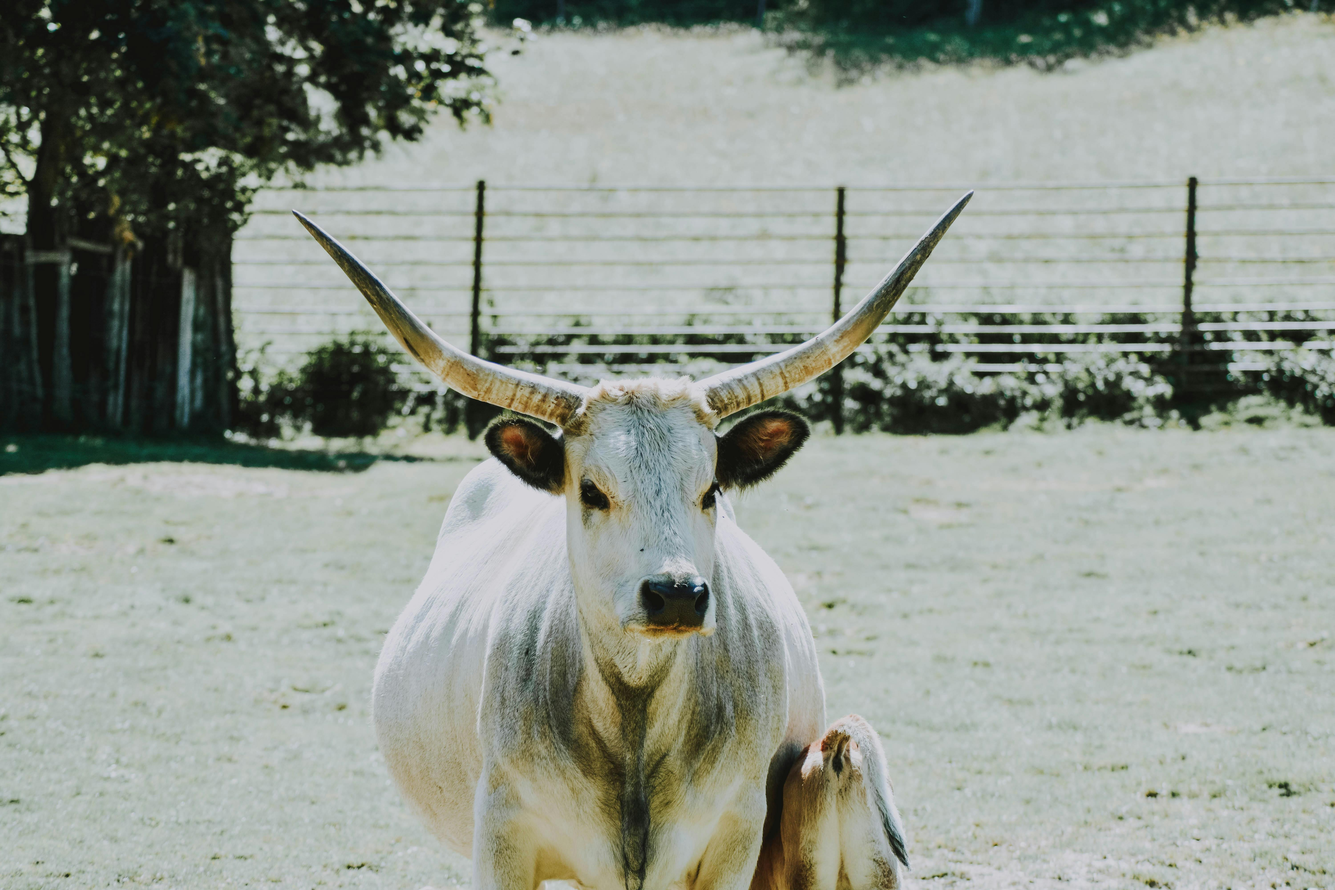bovino: (371, 378, 827, 890)
